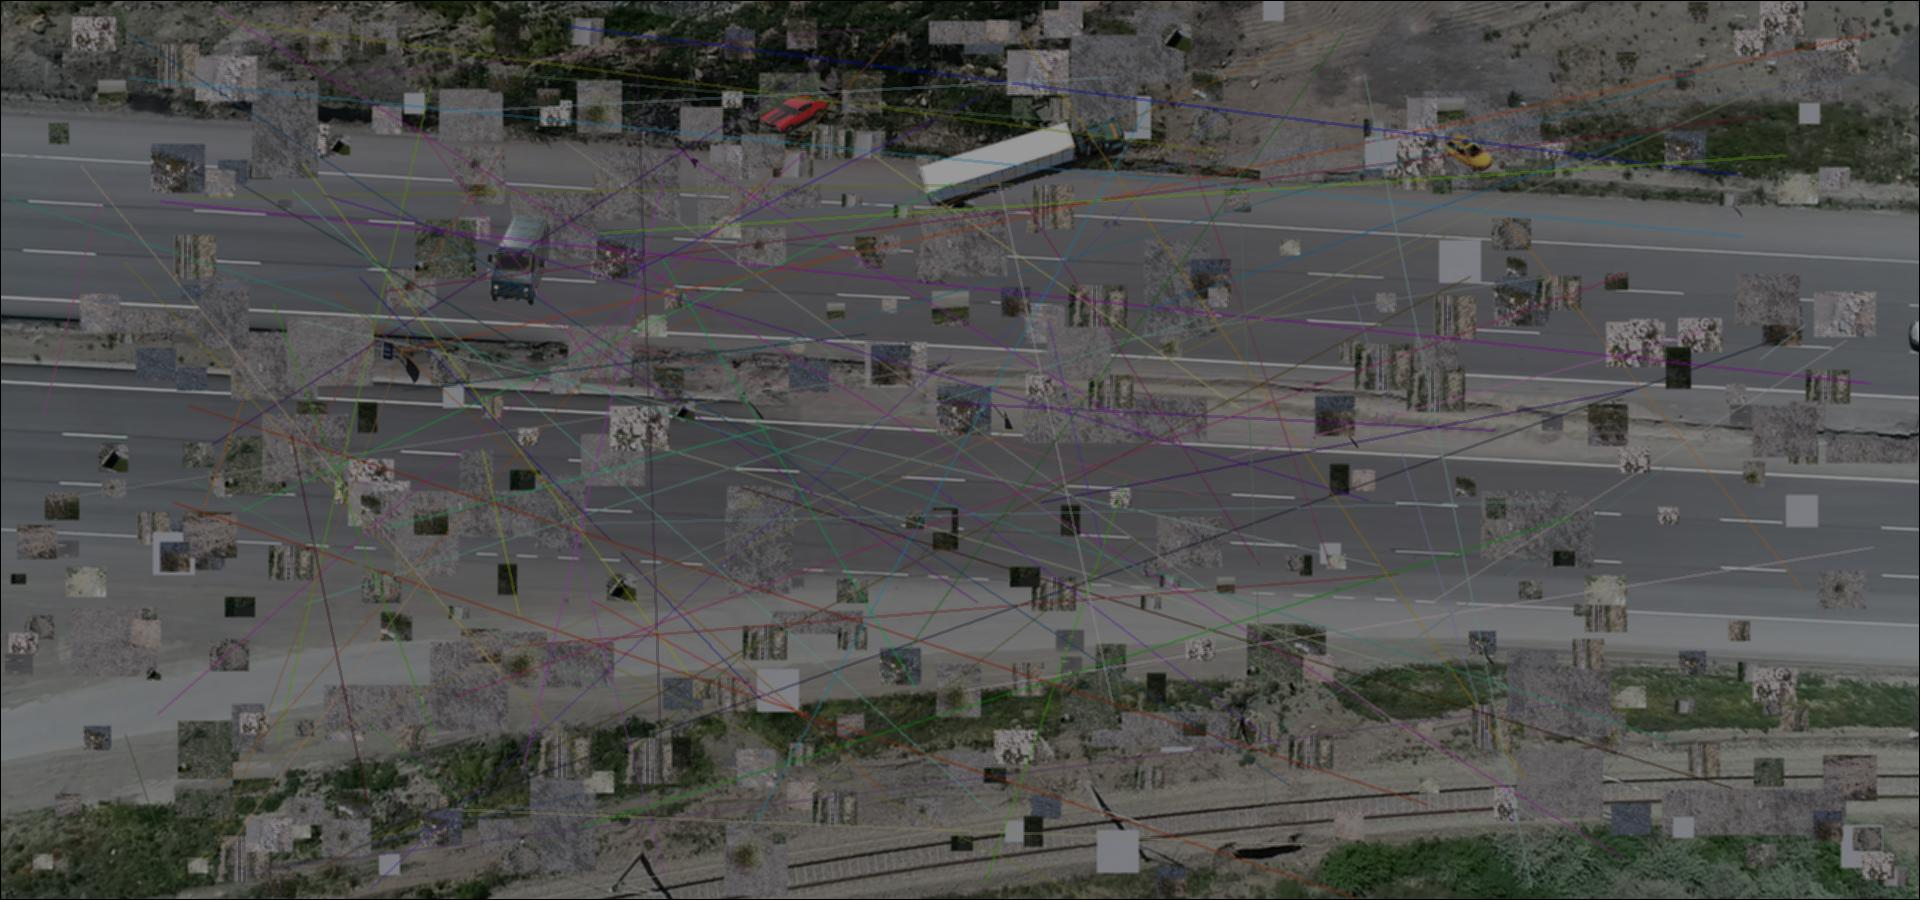arac: (913, 111, 1127, 206), (486, 214, 551, 305), (757, 94, 830, 133), (1444, 133, 1493, 173)
